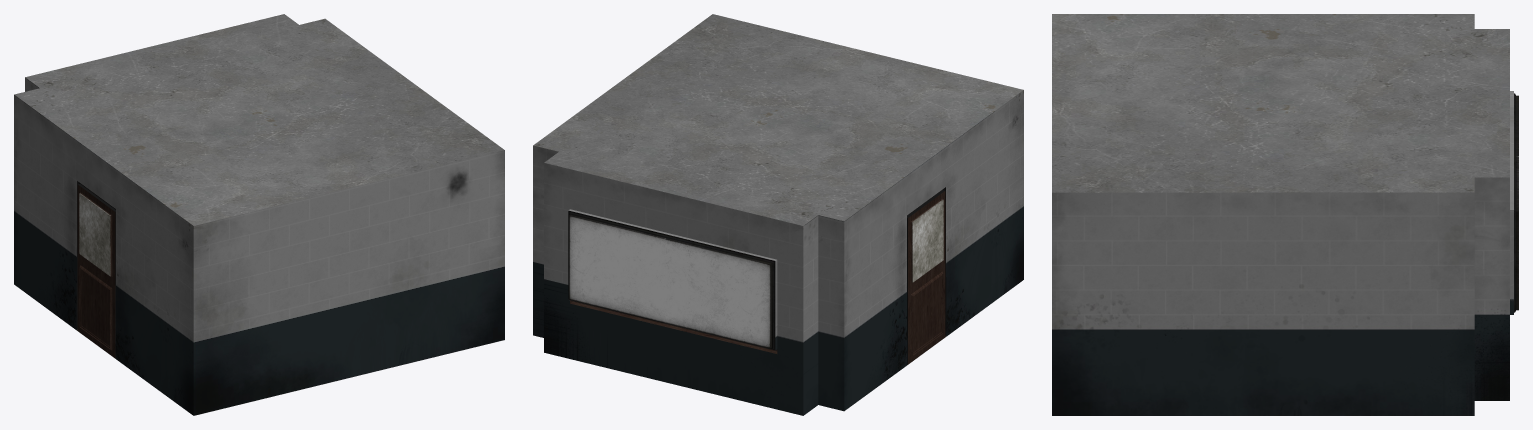
File: InterrogationRoom.fbx
3 views of the same model, side by side, from view 1: azimuth 30°, elevation 25°; view 2: azimuth 150°, elevation 25°; view 3: azimuth 270°, elevation 25° (orthographic). The views are drawn at different scales.
Parts seen in each view (by area): view 1: g.004, g.002, g; view 2: g.004, g.002, g; view 3: g.004, g.002.
Boxes of the visible parts, box(x1,y1,x2,y2) form: g.004: box(14, 77, 504, 415); g.002: box(14, 14, 504, 329); g: box(76, 181, 115, 358); g.004: box(533, 90, 1023, 415); g.002: box(533, 14, 1023, 335); g: box(907, 187, 946, 364); g.004: box(1052, 91, 1518, 415); g.002: box(1052, 14, 1509, 192).
Bounding box in the file's own units: 182 × 106 × 200.
5 materials, 5 textured.
